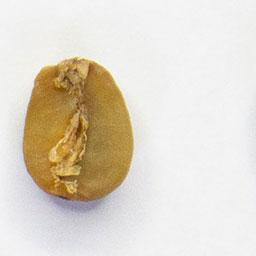defect: (20, 53, 137, 205)
